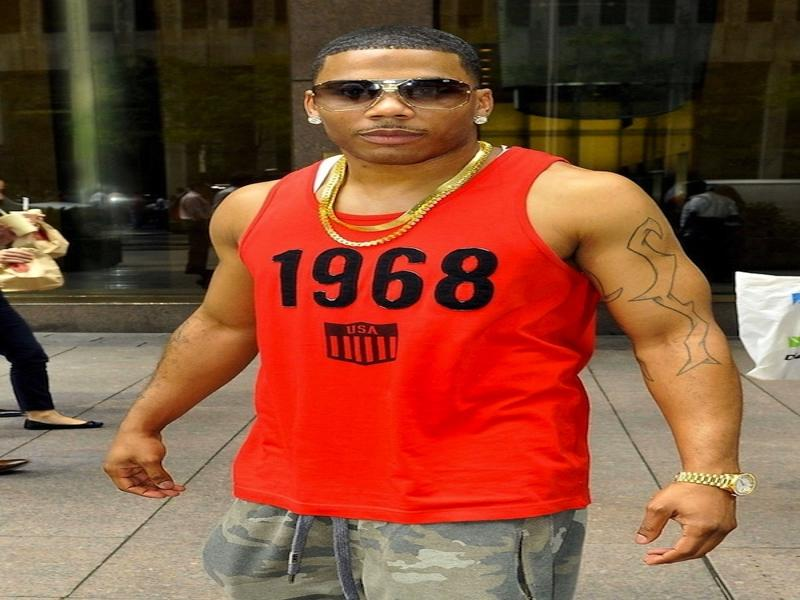watch: (674, 468, 760, 498)
